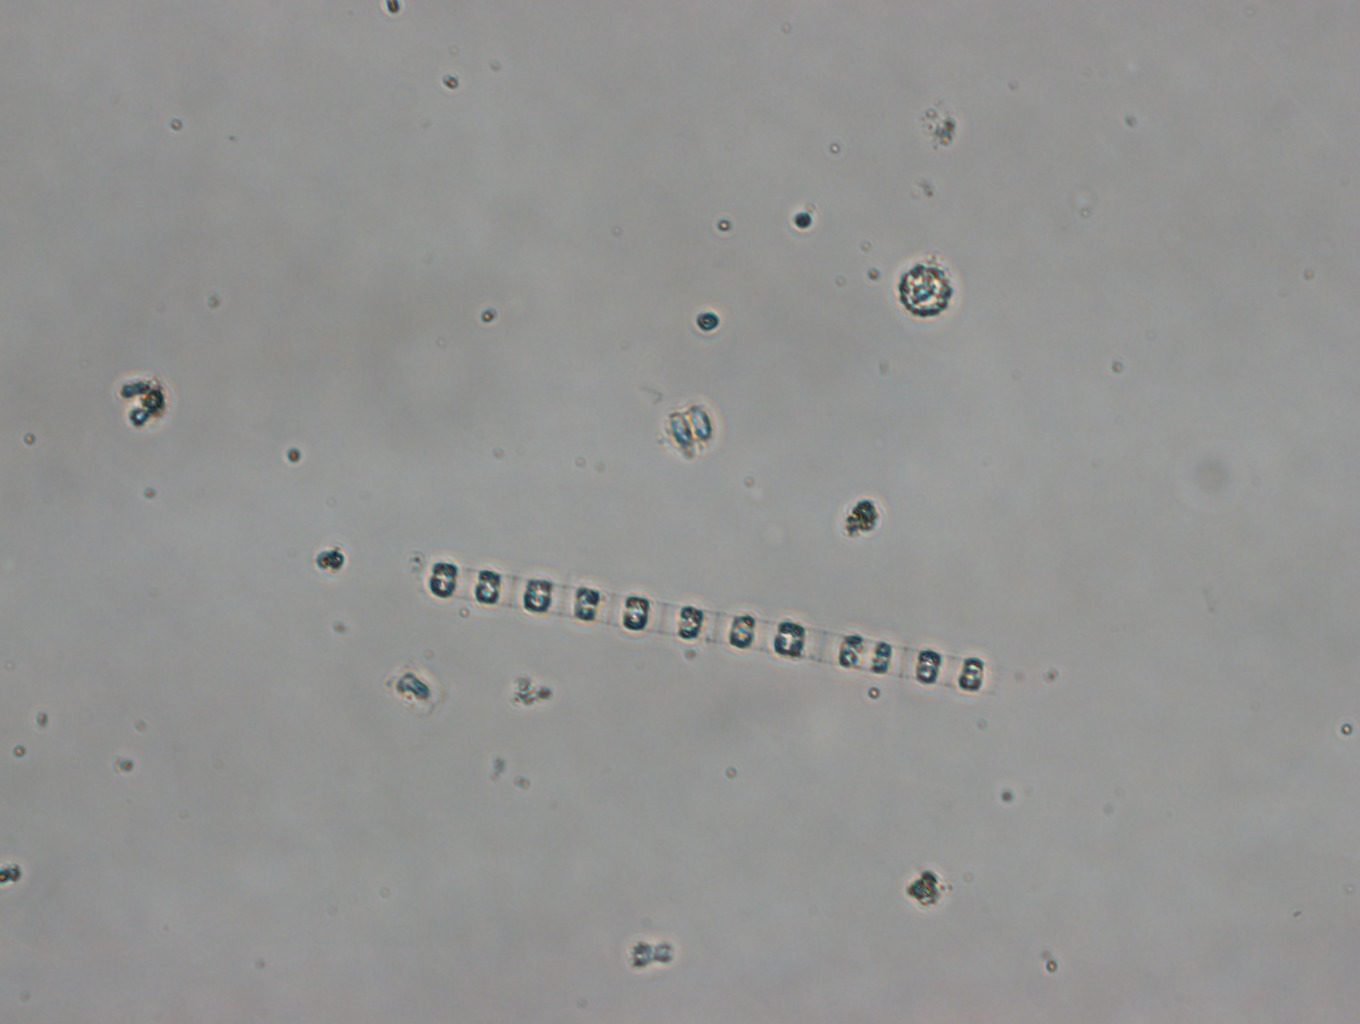skeletonema: (424, 563, 996, 693)
